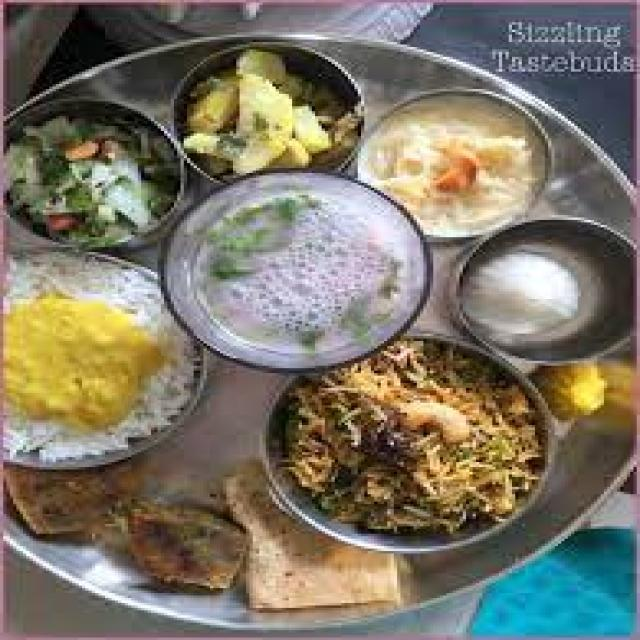curd: (443, 226, 628, 356)
dal: (0, 278, 180, 443)
rice: (281, 339, 543, 538)
sweet: (358, 91, 556, 227)
veg-fry: (178, 50, 359, 181)
